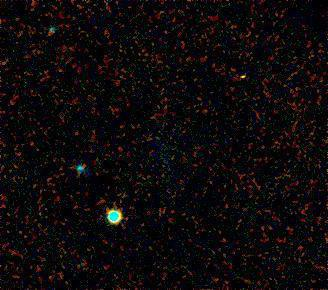star: (235, 65, 265, 95)
